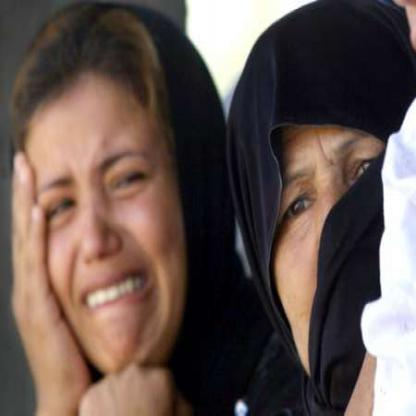face: (23, 7, 200, 383)
